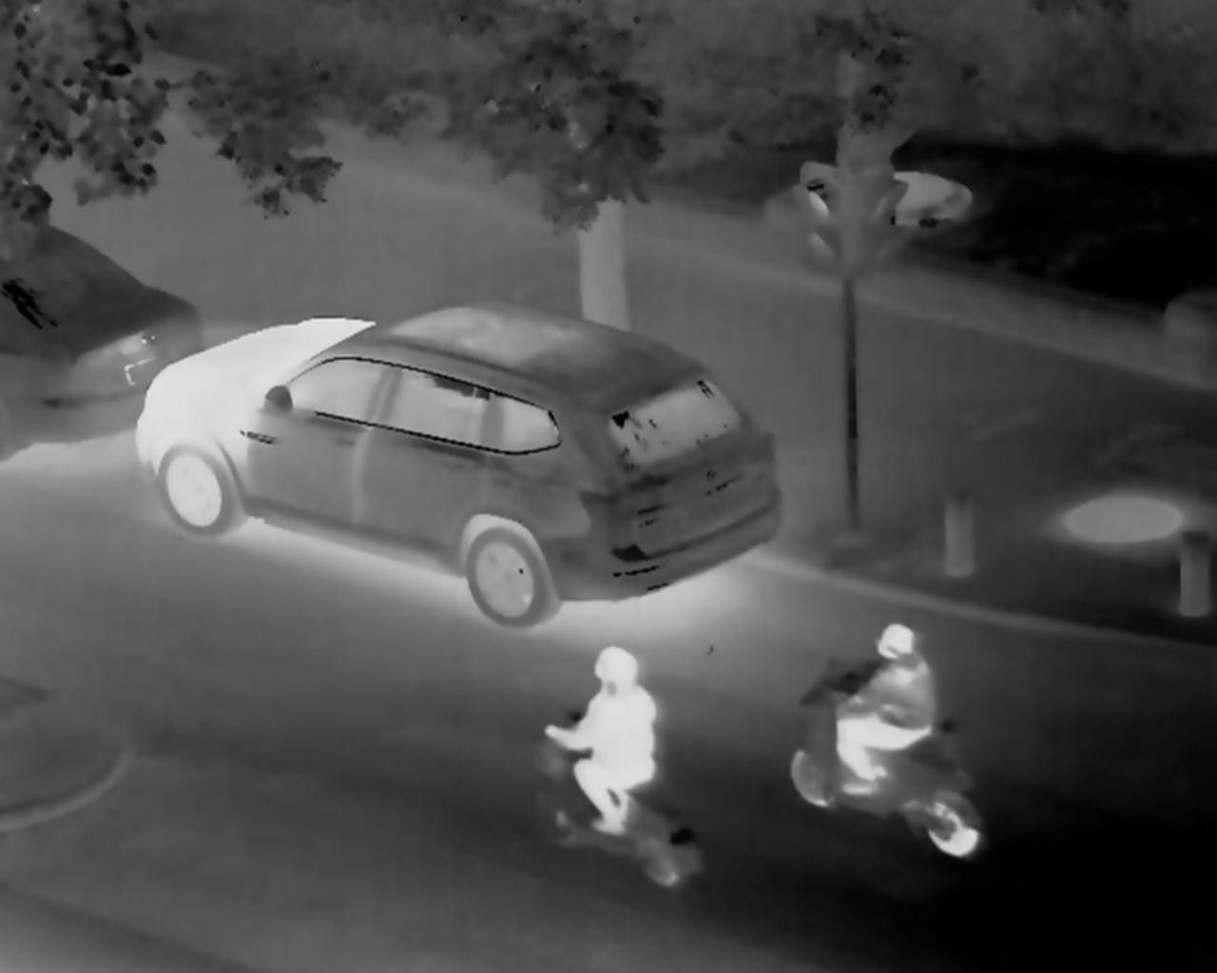person: (521, 616, 673, 826), (824, 606, 948, 813)
